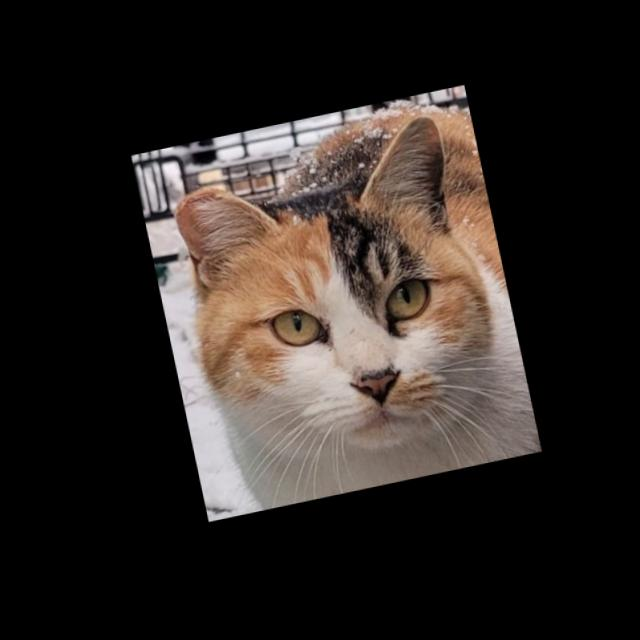animals: (152, 103, 515, 495)
